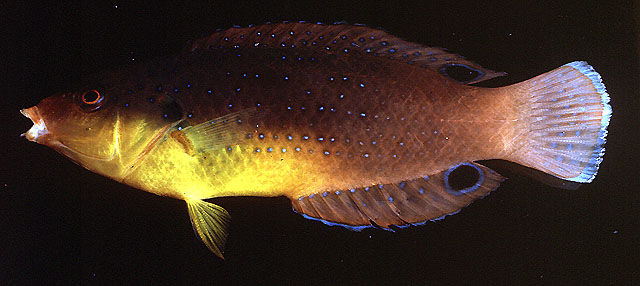fish: (21, 23, 610, 257)
